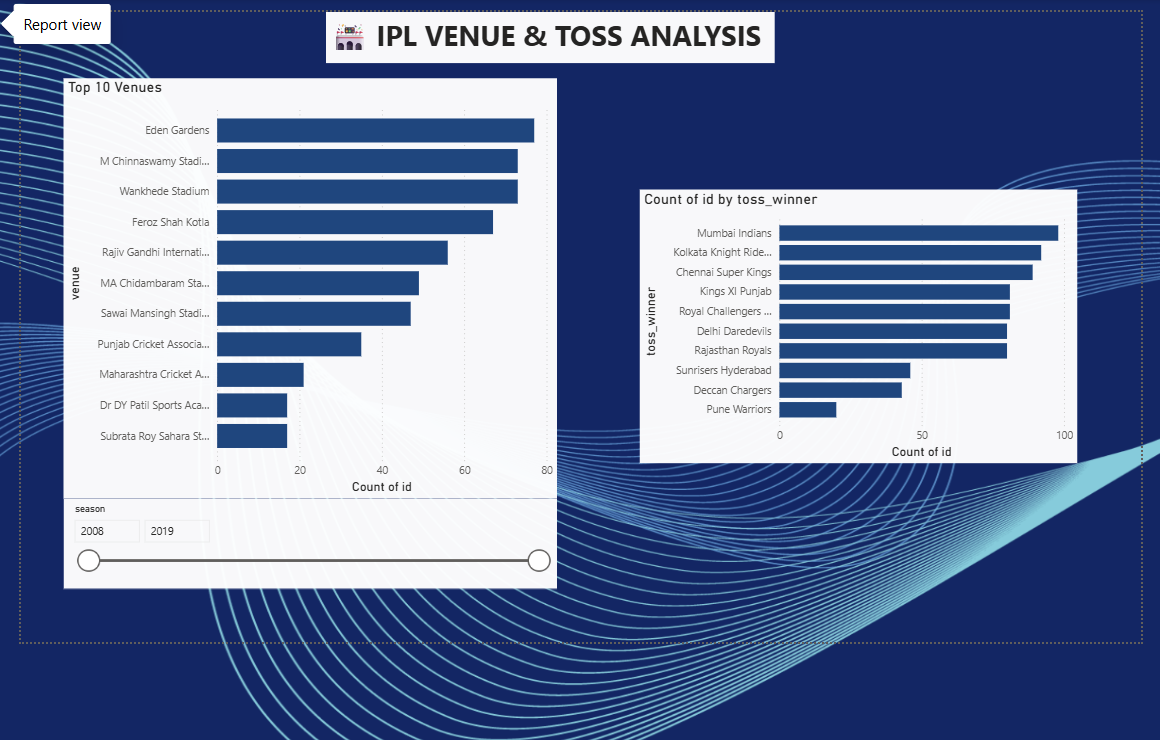

The page's visual inventory and layout, read from the dashboard file:
{"tool":"powerbi","page":{"name":"Page 2","canvas":[1280,720],"ordinal":1},"visuals":[{"type":"clusteredBarChart","title":"Top 10 Venues","fields":{"Category":["matches.venue"],"Y":["CountNonNull(matches.id)"]},"box":[48.6,75.7,564.3,480],"z":0},{"type":"slicer","fields":{"Values":["matches.season"]},"box":[48.6,555.7,564.3,102.9],"z":1000},{"type":"clusteredBarChart","fields":{"Category":["matches.toss_winner"],"Y":["CountNonNull(matches.id)"]},"box":[707.1,202.9,500,312.9],"z":2000},{"type":"textbox","box":[348.6,0,512.9,58.6],"z":2001}]}

Visuals, with their boxes on the page's 1280x720 design canvas (x1, y1, x2, y2). These are canvas units, not pixel positions in the 1160x740 screenshot, which may show the page scaled, cropped or inside an application window:
"Top 10 Venues" clusteredBarChart: box=[49, 76, 613, 556]
slicer - matches.season: box=[49, 556, 613, 659]
clusteredBarChart - matches.toss_winner x CountNonNull(matches.id): box=[707, 203, 1207, 516]
textbox: box=[349, 0, 862, 59]
